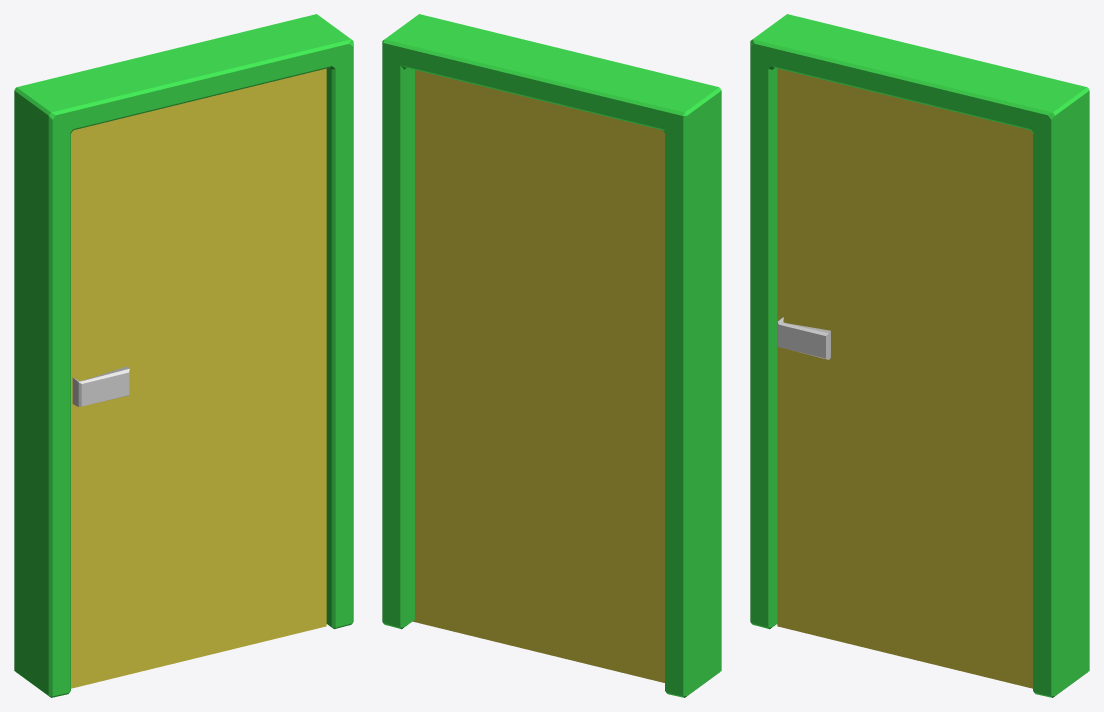
The model's file is Porte.fbx.
3 renders of one model, left to right at view 1: azimuth 30°, elevation 25°; view 2: azimuth 150°, elevation 25°; view 3: azimuth 330°, elevation 25°, orthographic.
Visible parts, largest first — view 1: Murs.001; view 2: Murs.001; view 3: Murs.001.
Boxes of the visible parts, bbox=[...] form: Murs.001: bbox=[14, 14, 353, 697]; Murs.001: bbox=[382, 14, 721, 697]; Murs.001: bbox=[750, 14, 1089, 697].
Bounding box in the file's own units: 125 × 230 × 27.18.
